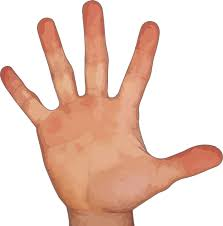palm: (1, 1, 223, 221)
